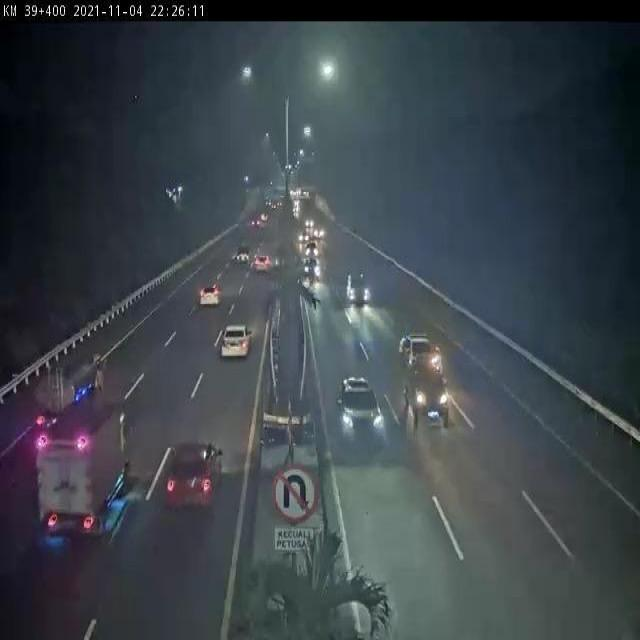car: (410, 539, 500, 632), (158, 432, 220, 516), (203, 310, 268, 374), (42, 552, 92, 635), (587, 581, 640, 640), (335, 360, 381, 424), (409, 371, 460, 425), (173, 276, 231, 321), (234, 244, 280, 285), (217, 246, 250, 286), (391, 316, 417, 348), (335, 257, 354, 283), (355, 293, 376, 315), (238, 222, 258, 238), (298, 220, 310, 244), (297, 240, 314, 256), (411, 488, 413, 489)
truck-l-: (30, 352, 82, 436)
truck-m-: (10, 407, 139, 542)
